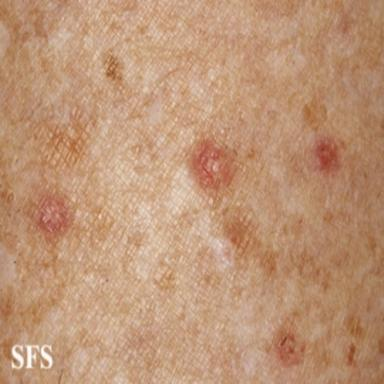Porokeratosis: (188, 139, 236, 200), (37, 192, 72, 240), (313, 135, 340, 173), (276, 331, 305, 366)
